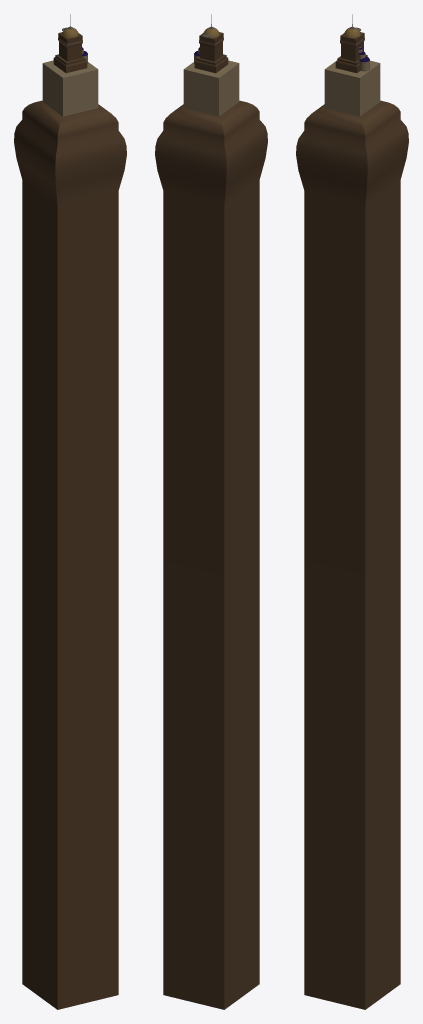
The model's file is CurveBuilding1.fbx.
3 views of the same model, side by side, from view 1: azimuth 30°, elevation 25°; view 2: azimuth 150°, elevation 25°; view 3: azimuth 330°, elevation 25° (orthographic).
Visible parts, largest first — view 1: Building_LOD0; view 2: Building_LOD0; view 3: Building_LOD0.
Part boxes in pixels (<box>): Building_LOD0: <box>14,14,126,1009</box>; Building_LOD0: <box>155,14,267,1009</box>; Building_LOD0: <box>296,14,408,1009</box>.
Bounding box in the file's own units: 18.16 × 236 × 18.16.
